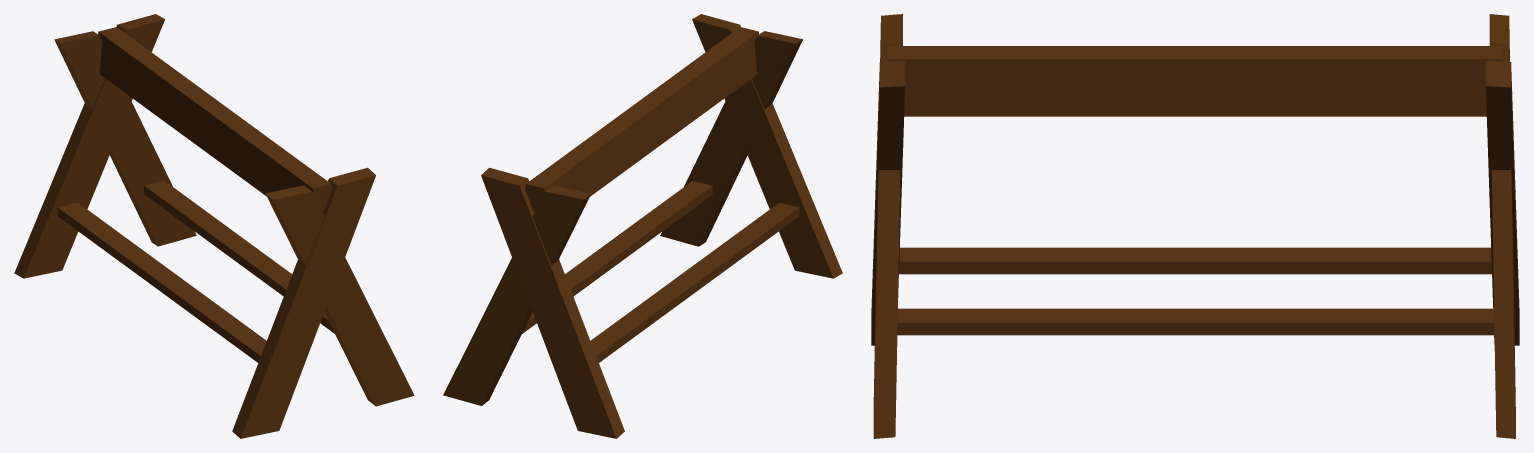
Rendered from WaponRack.fbx.
The picture shows the model from 3 angles, left to right: view 1: azimuth 30°, elevation 25°; view 2: azimuth 150°, elevation 25°; view 3: azimuth 270°, elevation 25°; orthographic projection. The views are drawn at different scales.
Parts seen in each view (by area): view 1: Cube; view 2: Cube; view 3: Cube.
Part boxes in pixels (x1,y1,x2,y2): Cube: (14, 14, 414, 438); Cube: (443, 14, 842, 438); Cube: (871, 14, 1519, 438).
Size of the model in its own units: 85.68 by 108 by 192.
